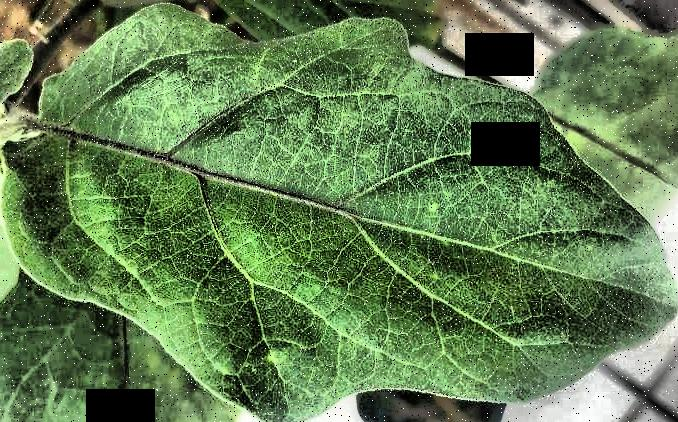HEALTHY: (1, 1, 678, 422)
